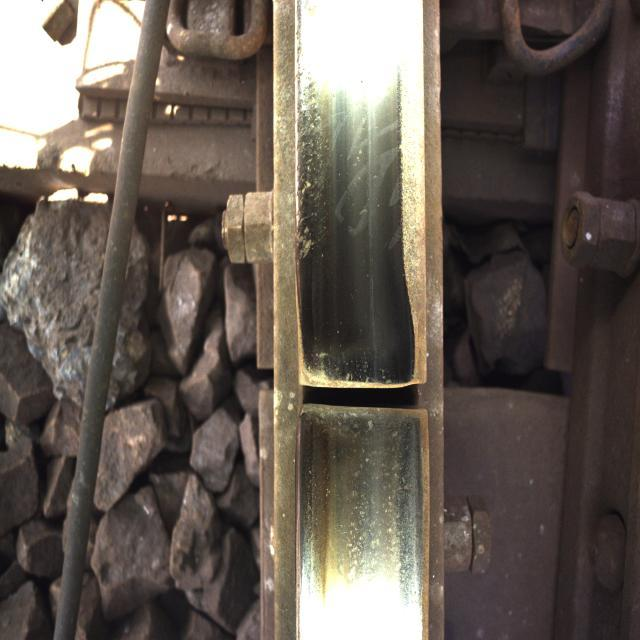spalling: (252, 290, 466, 469)
